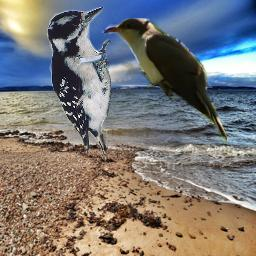Cuckoo: (101, 18, 227, 143)
Woodpecker: (47, 7, 115, 162)
